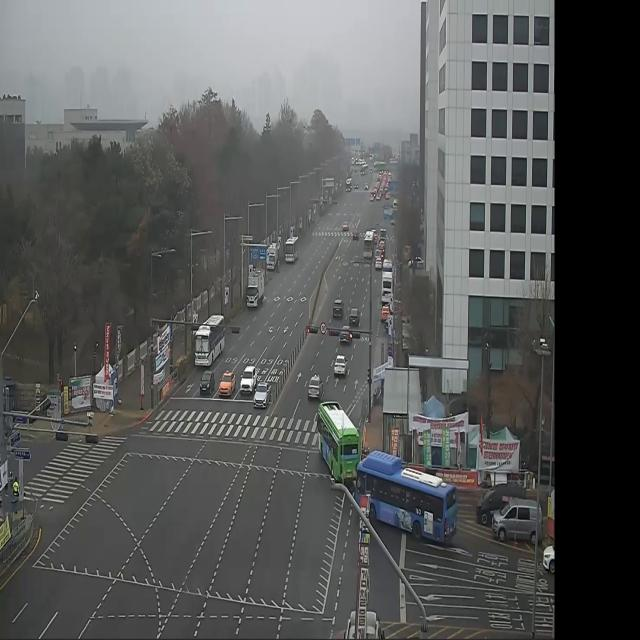car: (357, 450, 458, 552), (317, 397, 360, 485), (495, 497, 544, 550), (195, 312, 226, 369), (380, 266, 395, 302), (285, 236, 299, 266), (364, 230, 374, 262)
motorcycle: (241, 360, 258, 399), (218, 369, 237, 400), (252, 379, 269, 413), (198, 368, 216, 398), (332, 288, 345, 320), (349, 304, 361, 337), (308, 374, 322, 401), (334, 355, 347, 378)
truck: (246, 269, 265, 314)
